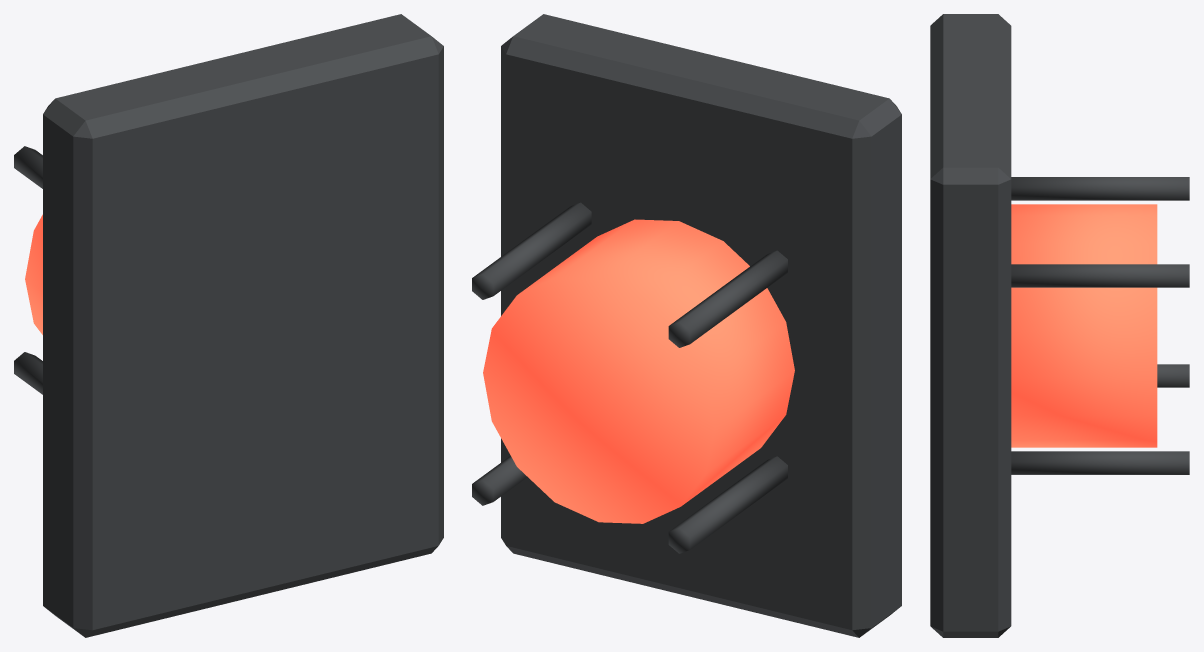
File: wall_lamp_red.glb
The picture shows the model from 3 angles, left to right: view 1: azimuth 30°, elevation 25°; view 2: azimuth 150°, elevation 25°; view 3: azimuth 270°, elevation 25°; orthographic projection. The views are drawn at different scales.
Parts seen in each view (by area): view 1: wall_lamp_red; view 2: wall_lamp_red; view 3: wall_lamp_red.
Part boxes in pixels (x1=…): wall_lamp_red: x1=14, y1=14, x2=443, y2=637; wall_lamp_red: x1=472, y1=14, x2=901, y2=637; wall_lamp_red: x1=930, y1=14, x2=1189, y2=637.
Bounding box in the file's own units: 0.24 × 0.32 × 0.16.
